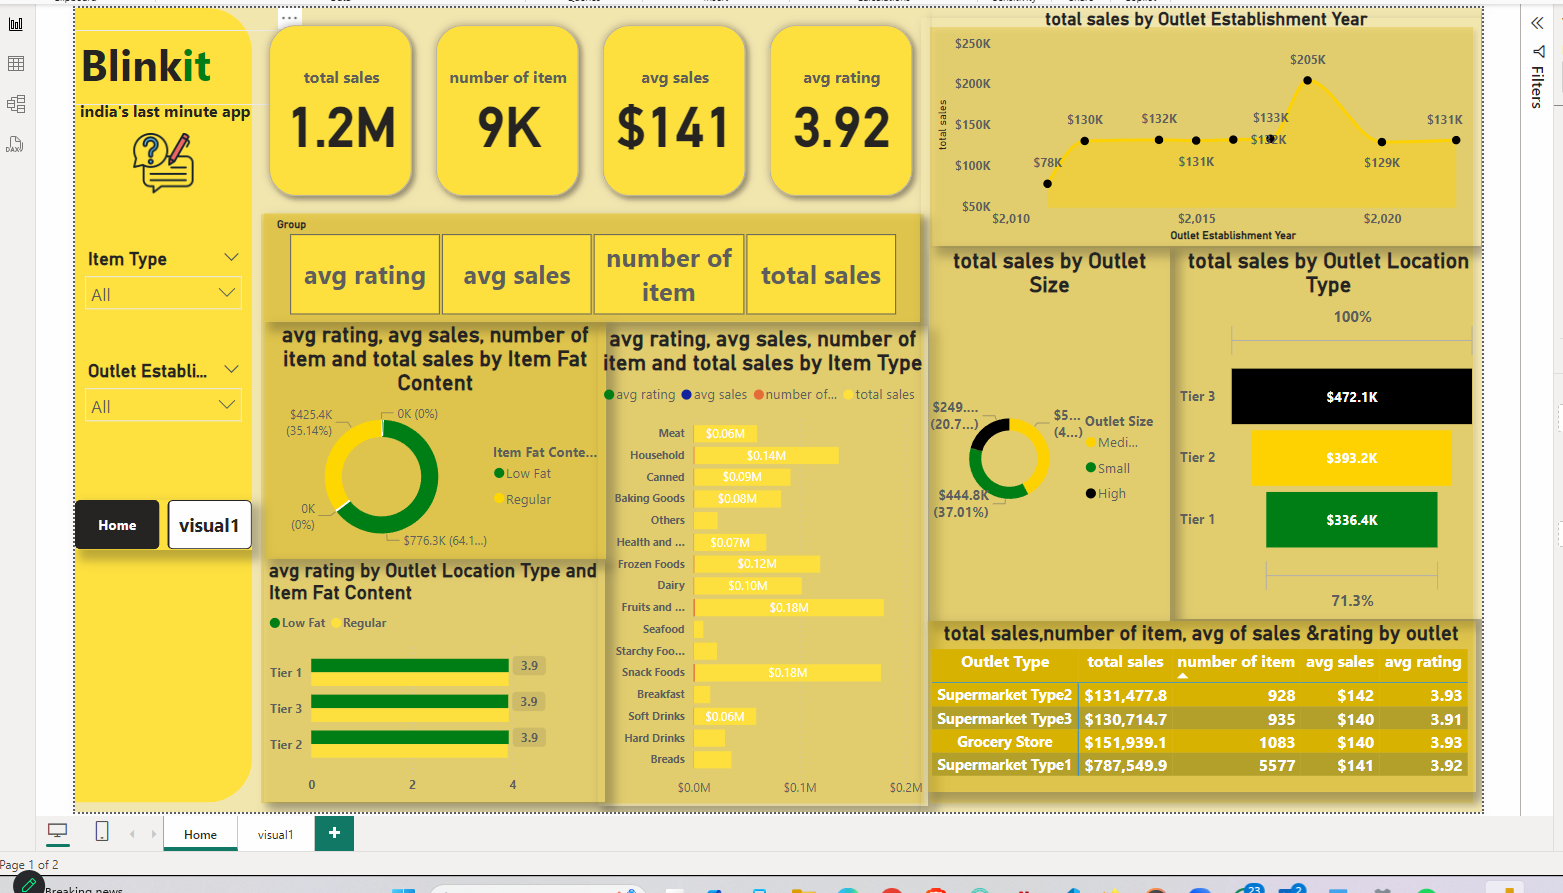

Layout of this report page (visuals, bound fields, positions):
{"tool":"powerbi","page":{"name":"Home","canvas":[1400,800],"ordinal":0},"visuals":[{"type":"shape","box":[0,0,176.4,790.6],"z":0},{"type":"textbox","box":[0,22,226.8,74],"z":1000},{"type":"cardVisual","fields":{"Data":["all mesurers.total sales","all mesurers.number of item","all mesurers.avg sales","all mesurers.avg rating"]},"box":[176,0,677.6,204.3],"z":2000},{"type":"textbox","box":[0,86.4,189.3,33.2],"z":3000},{"type":"shape","box":[176,196,677.6,604.5],"z":4000},{"type":"donutChart","fields":{"Y":["all mesurers.avg rating","all mesurers.avg sales","all mesurers.number of item","all mesurers.total sales"],"Category":["BlinkIT Grocery Data.Item Fat Content"]},"box":[189.3,312.2,338.8,235.8],"z":5000},{"type":"slicer","fields":{"Values":["Group.Group"]},"box":[187.7,204.3,652.7,107.9],"z":6000},{"type":"barChart","fields":{"Y":["all mesurers.avg rating","all mesurers.avg sales","all mesurers.number of item","all mesurers.total sales"],"Category":["BlinkIT Grocery Data.Item Type"]},"box":[520,316.8,328,478.4],"z":7000},{"type":"clusteredBarChart","fields":{"Y":["all mesurers.avg rating"],"Category":["BlinkIT Grocery Data.Outlet Location Type"],"Series":["BlinkIT Grocery Data.Item Fat Content"]},"box":[187.7,548,338.8,242.5],"z":8000},{"type":"shape","box":[841.6,9.6,558.4,790.4],"z":9000},{"type":"lineChart","fields":{"Y":["all mesurers.total sales"],"Category":["BlinkIT Grocery Data.Outlet Establishment Year"]},"box":[852.8,0,545.6,236.8],"z":10000},{"type":"pieChart","fields":{"Y":["all mesurers.total sales"],"Category":["BlinkIT Grocery Data.Outlet Size"]},"box":[849.6,238.4,240,371.2],"z":11000},{"type":"funnel","fields":{"Category":["BlinkIT Grocery Data.Outlet Location Type"],"Y":["all mesurers.total sales"]},"box":[1094.4,239.1,305.6,368.7],"z":12000},{"type":"pivotTable","title":"total sales,number of item, avg of sales &rating by outlet","fields":{"Rows":["BlinkIT Grocery Data.Outlet Type"],"Values":["all mesurers.total sales","all mesurers.number of item","all mesurers.avg sales","all mesurers.avg rating"]},"box":[848,609.6,545.6,169.6],"z":13000},{"type":"slicer","fields":{"Values":["BlinkIT Grocery Data.Item Type"]},"box":[0,233.6,176,75.2],"z":14000},{"type":"slicer","fields":{"Values":["BlinkIT Grocery Data.Outlet Establishment Year"]},"box":[0,345.6,176,76.8],"z":15000},{"type":"pageNavigator","box":[0,489.6,176,49.6],"z":16000},{"type":"image","box":[0,118.4,176,72],"z":17000}]}

Visuals, with their boxes on the page's 1400x800 design canvas (x1, y1, x2, y2). These are canvas units, not pixel positions in the 1563x893 screenshot, which may show the page scaled, cropped or inside an application window:
shape: (0,0,176,791)
textbox: (0,22,227,96)
cardVisual - all mesurers.total sales x all mesurers.number of item: (176,0,854,204)
textbox: (0,86,189,120)
shape: (176,196,854,800)
donutChart - all mesurers.avg rating x all mesurers.avg sales: (189,312,528,548)
slicer - Group.Group: (188,204,840,312)
barChart - all mesurers.avg rating x all mesurers.avg sales: (520,317,848,795)
clusteredBarChart - all mesurers.avg rating x BlinkIT Grocery Data.Outlet Location Type: (188,548,526,790)
shape: (842,10,1400,800)
lineChart - all mesurers.total sales x BlinkIT Grocery Data.Outlet Establishment Year: (853,0,1398,237)
pieChart - all mesurers.total sales x BlinkIT Grocery Data.Outlet Size: (850,238,1090,610)
funnel - BlinkIT Grocery Data.Outlet Location Type x all mesurers.total sales: (1094,239,1400,608)
"total sales,number of item, avg of sales &rating by outlet" pivotTable: (848,610,1394,779)
slicer - BlinkIT Grocery Data.Item Type: (0,234,176,309)
slicer - BlinkIT Grocery Data.Outlet Establishment Year: (0,346,176,422)
pageNavigator: (0,490,176,539)
image: (0,118,176,190)
